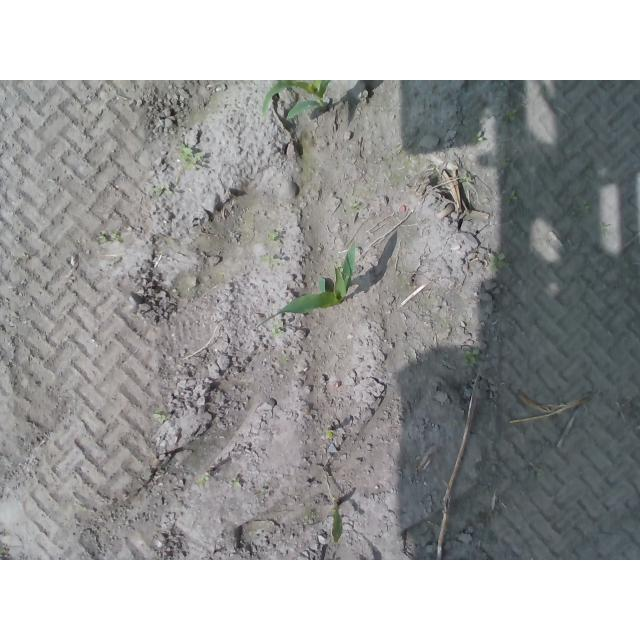Maize: (254, 243, 359, 329), (260, 80, 333, 122), (329, 500, 344, 545)
Weeds: (176, 144, 204, 167), (95, 232, 125, 245), (485, 252, 503, 273), (462, 348, 478, 367), (152, 409, 168, 423), (151, 185, 173, 195), (272, 321, 285, 336), (575, 200, 591, 212), (473, 129, 484, 143), (505, 109, 516, 121), (263, 255, 276, 265), (302, 515, 315, 525), (267, 231, 278, 241), (200, 473, 208, 484), (510, 190, 518, 200), (231, 480, 241, 488), (326, 432, 334, 440)
